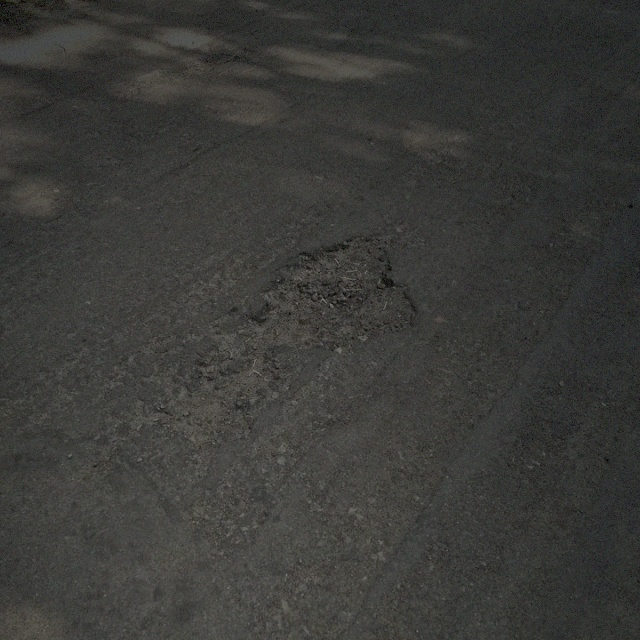pothole: (247, 233, 417, 361), (146, 358, 284, 443), (178, 49, 244, 74)
